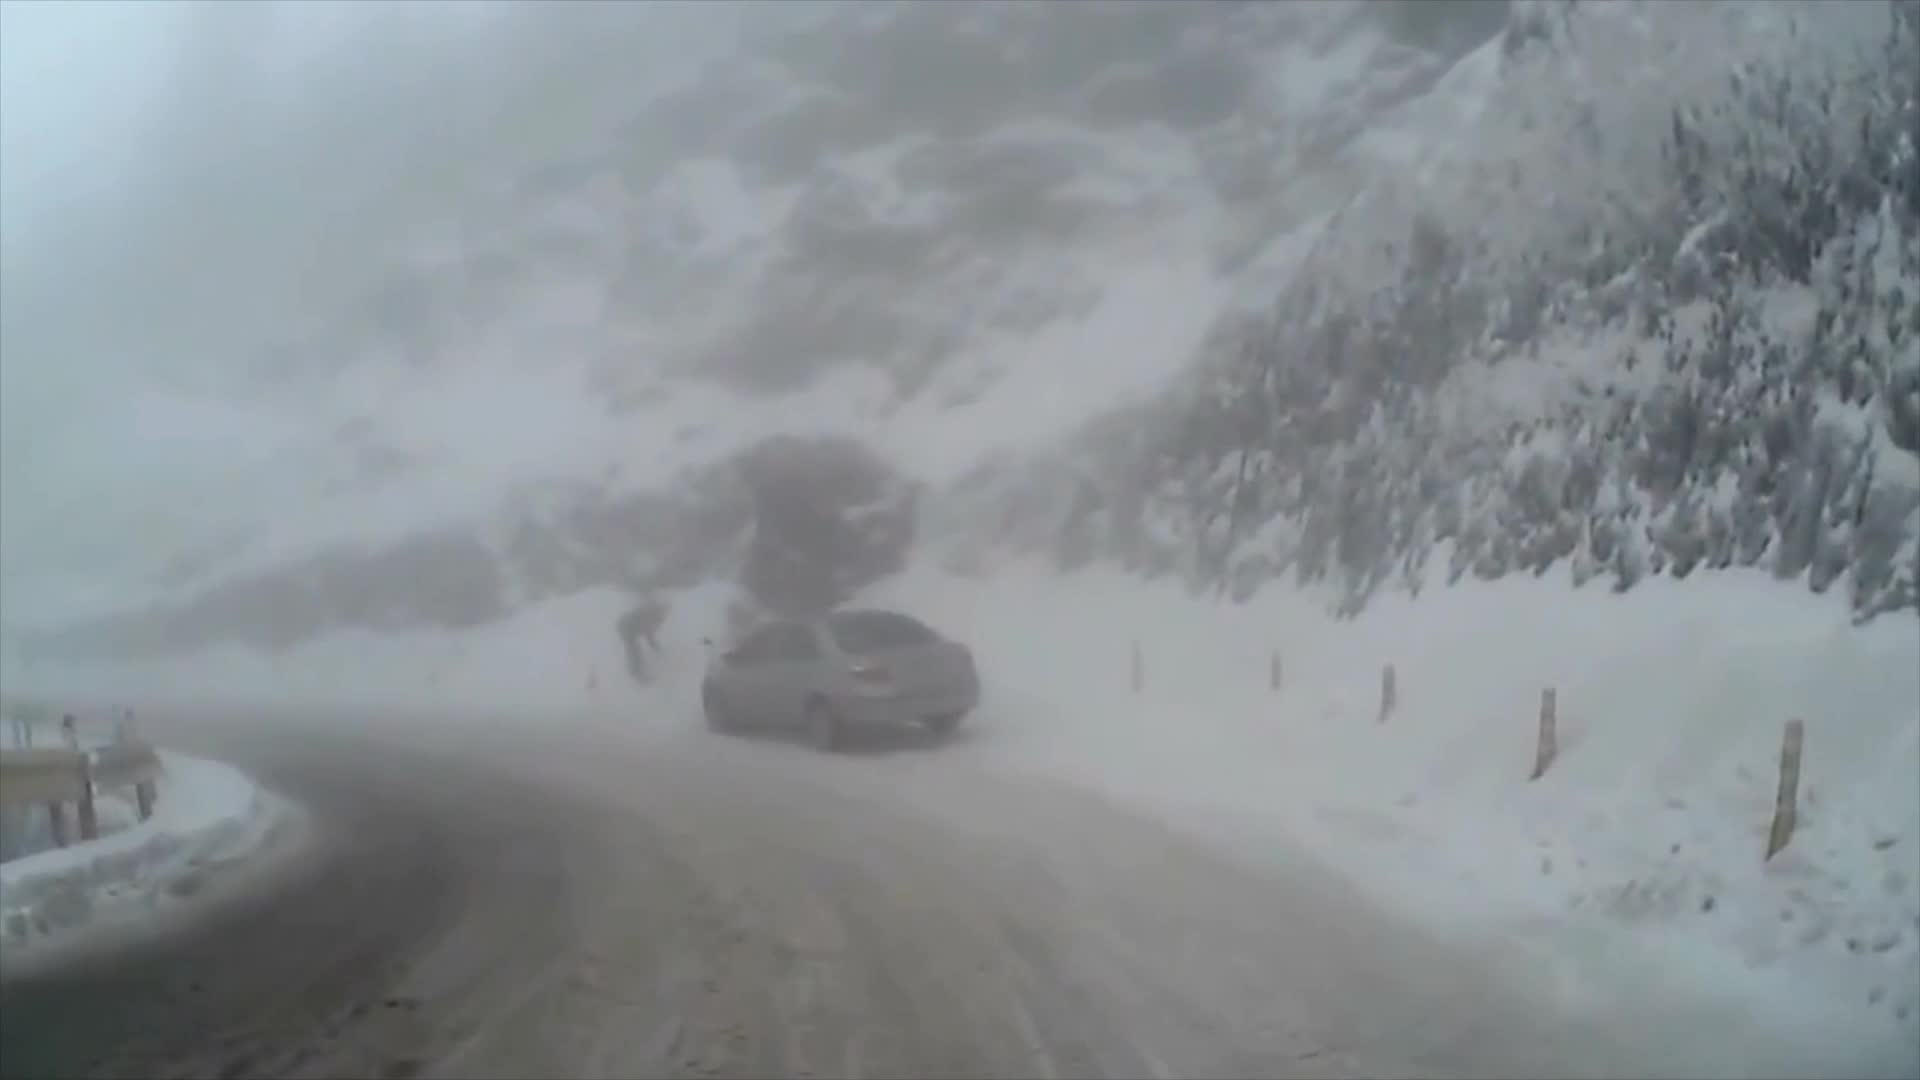pedestrian: (618, 603, 673, 682)
vehicle: (702, 608, 981, 751)
